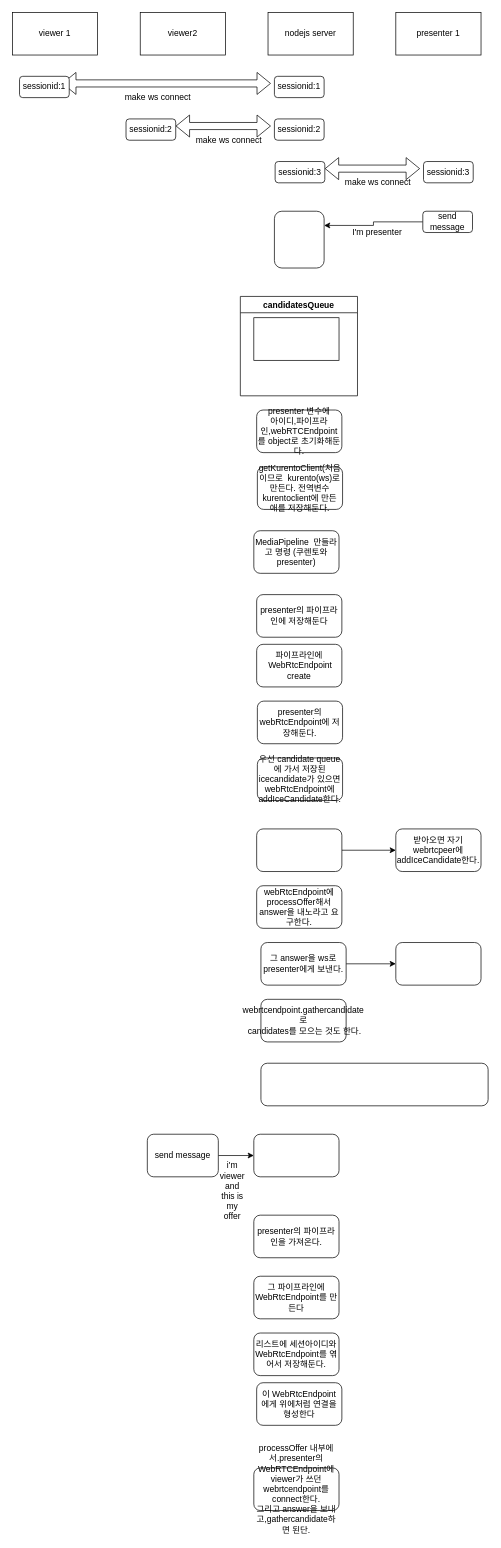
The diagram is 501 pixels wide and 1548 high, and some of its shapes have lost their labels. The centre of each missing label's shape, as x and y in pixels:
sessionid:3 [empty]: the point at 296,338
start viewer: the point at 296,1155
startPresenter with sessioId, ws, sdpOffer: the point at 299,239
webRtcEndpoint.on 'OnIceCandidate'로 onicecandidate설정. 만약 발견하면, 웹소켓으로 send하도록: the point at 299,850
받은 answer 을 set remote description한다.: the point at 438,963
현재 presenter와 kurento는 p2p연결 형성되있음.: the point at 374,1084
